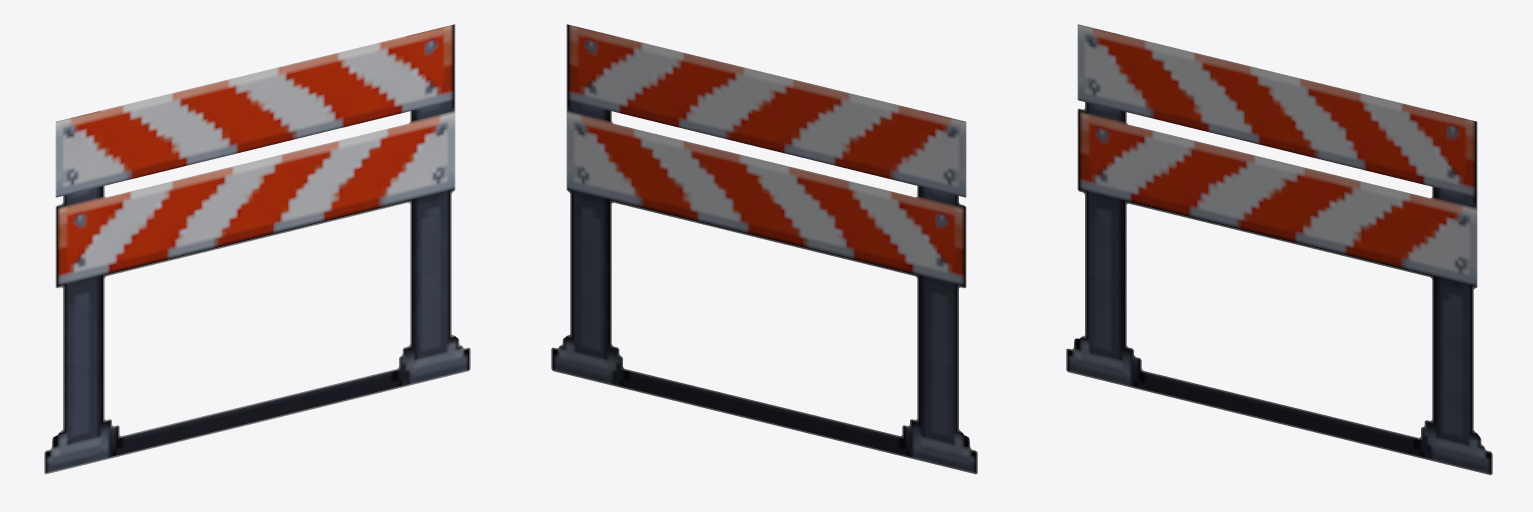
Rendered from slide.glb.
3 renders of one model, left to right at view 1: azimuth 30°, elevation 25°; view 2: azimuth 150°, elevation 25°; view 3: azimuth 330°, elevation 25°, orthographic.
Visible parts, largest first — view 1: Slide; view 2: Slide; view 3: Slide.
Boxes of the visible parts, x1,y1,x2,y2 form: Slide: (44,24,470,474); Slide: (551,24,977,474); Slide: (1066,24,1492,475).
Size of the model in its own units: 2.67 by 1.94 by 9.85e-07.
1 material, 1 textured.
